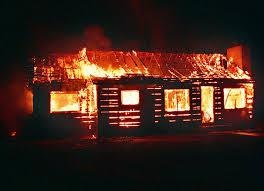fire: (31, 45, 154, 113)
